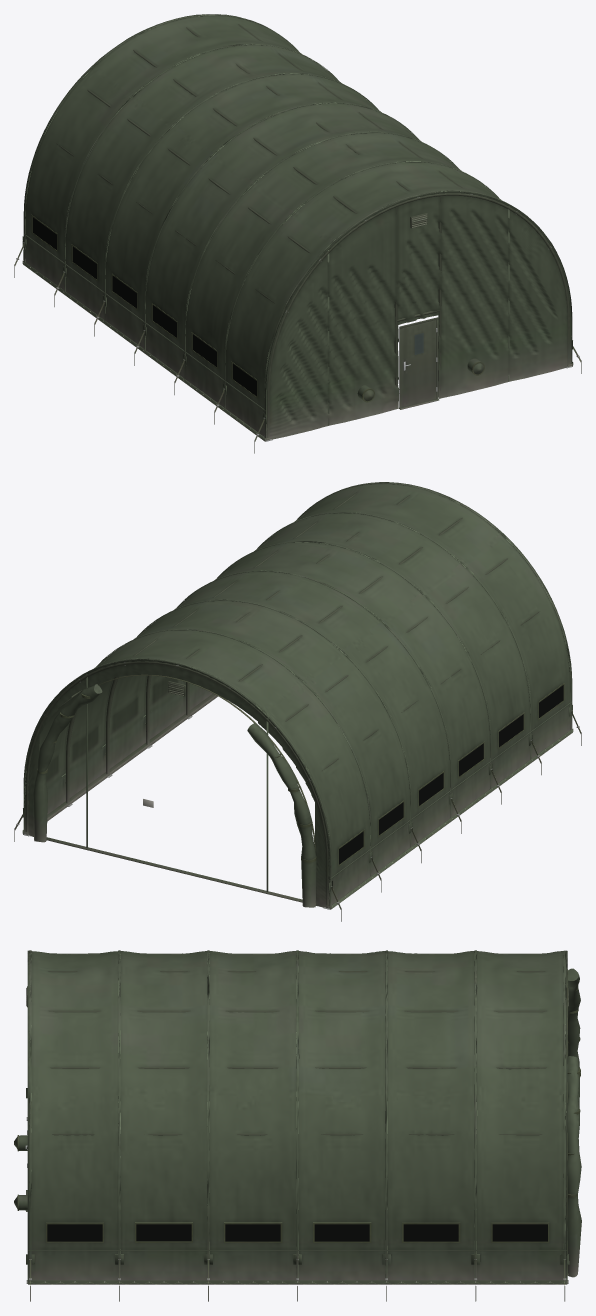
Rendered from mex-26-deployed.glb.
3 renders of one model, top to bottom at view 1: azimuth 30°, elevation 25°; view 2: azimuth 150°, elevation 25°; view 3: azimuth 270°, elevation 25°, orthographic. The views are drawn at different scales.
Visible parts, largest first — view 1: MEX26_shelter, MEX26_frame; view 2: MEX26_shelter, MEX26_frame; view 3: MEX26_shelter, MEX26_frame.
Part boxes in pixels (x1,y1,x2,y2): MEX26_shelter: [14, 14, 581, 453]; MEX26_frame: [56, 24, 572, 441]; MEX26_shelter: [14, 482, 581, 921]; MEX26_frame: [23, 492, 539, 909]; MEX26_shelter: [14, 950, 581, 1301]; MEX26_frame: [26, 953, 568, 1283].
Size of the model in its own units: 8.66 by 5.53 by 11.67.
Materials: 12 (6 with a texture image).
